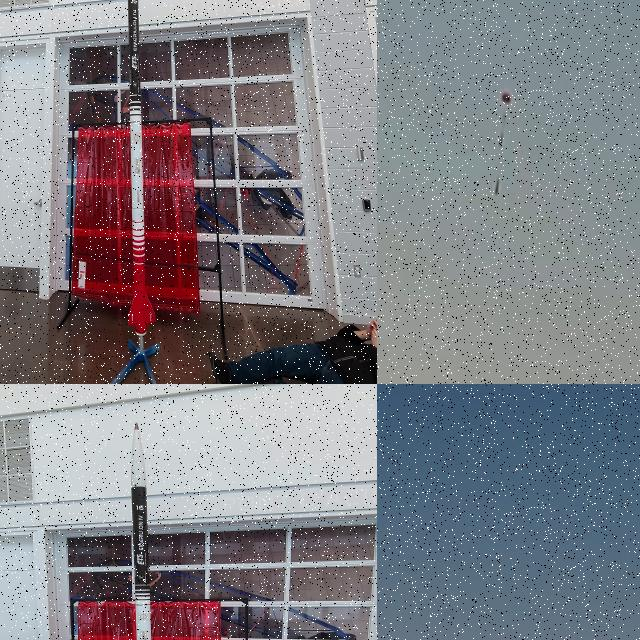Rocket: (128, 0, 156, 334), (131, 422, 151, 640), (495, 177, 500, 196)
